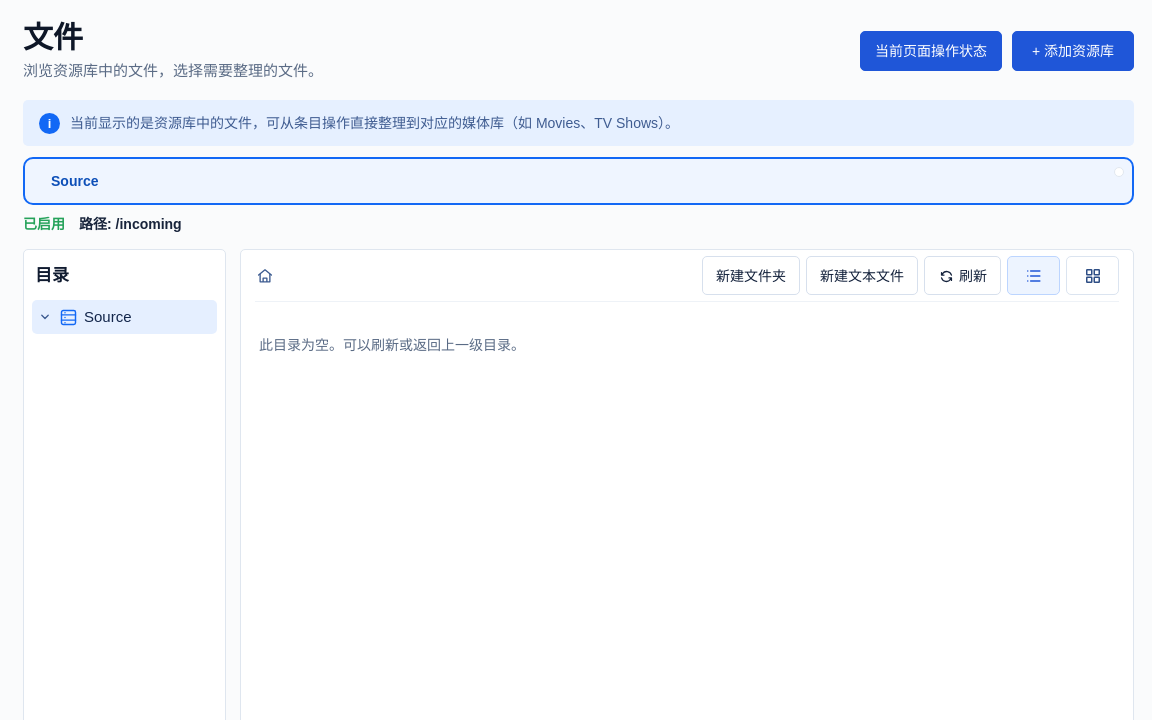
Scenario: current page operation status › lists multiple operations, reads one durable detail and offers only advertised controls
Click the button "当前页面操作状态". click: (931, 51)
box: [860,31,1002,71]
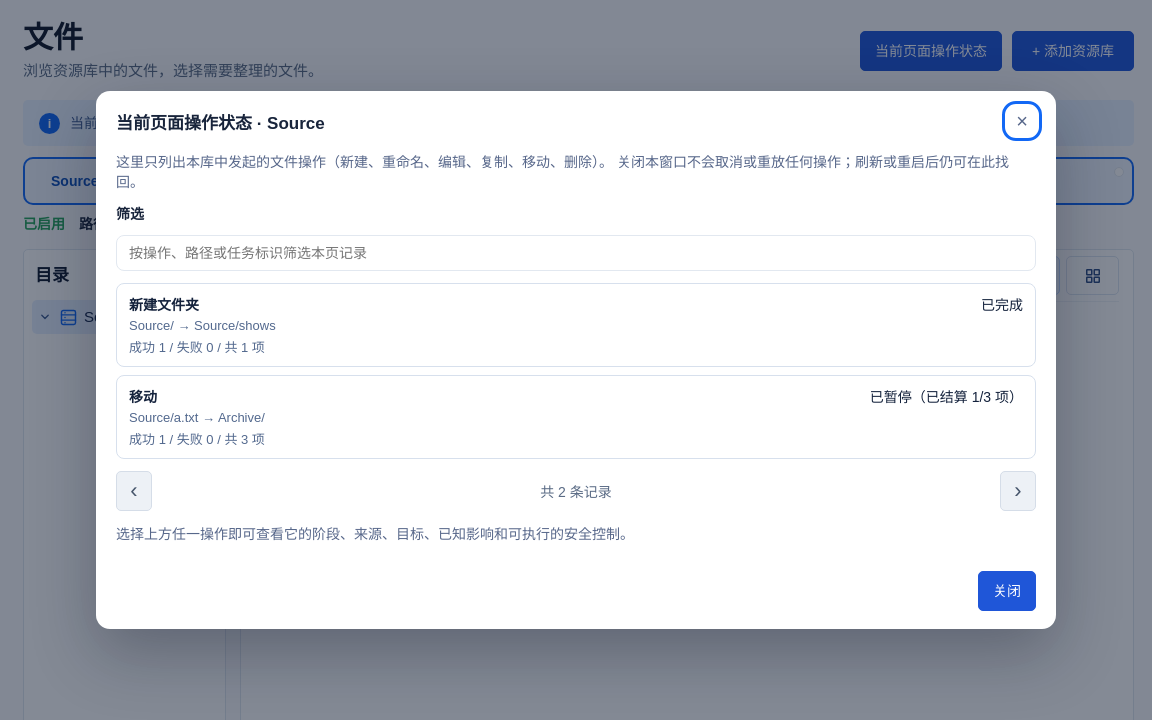
Result: the button with aria-label "操作 新建文件夹 task-1" is shown at [116,283,1036,367]
Result: the button with aria-label "操作 移动 task-2" is shown
Result: the text "共 2 条记录" is shown at [540,481,612,501]
Click the button with aria-label "操作 移动 task-2". click: (946, 397)
box: [116,375,1036,459]
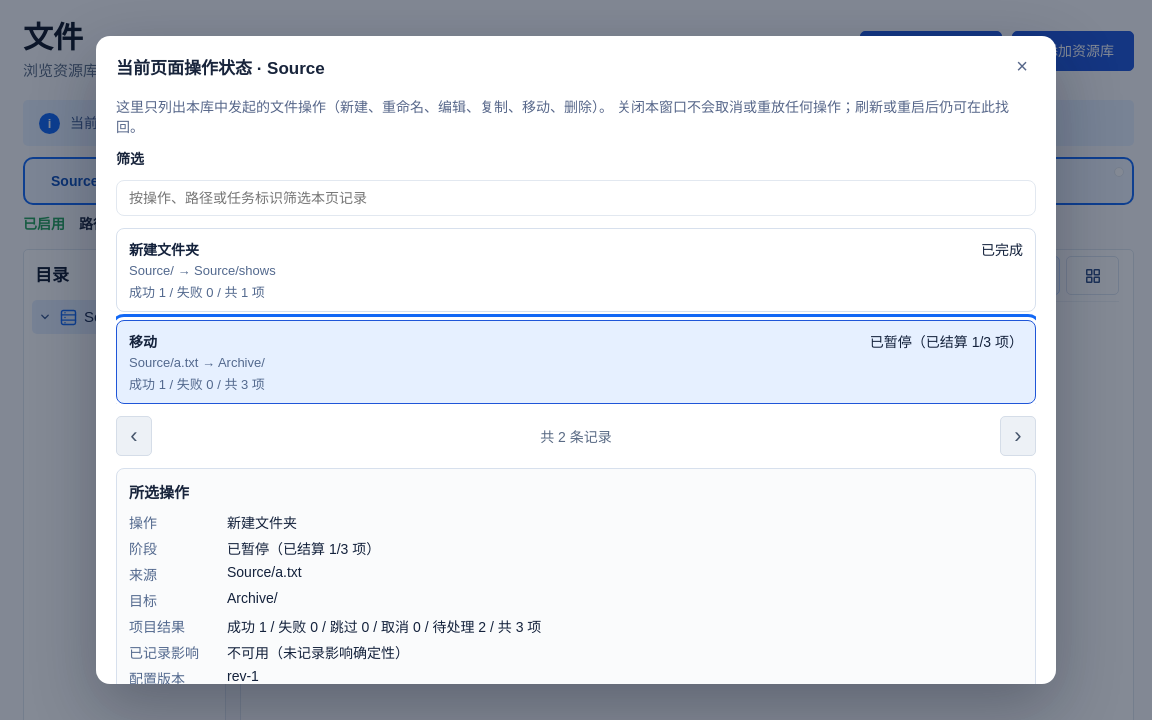
Result: the text "Archive/" is shown at [227,590,278,606]
Result: the text "Source/a.txt" is shown at [227,564,302,580]
Result: the text "成功 1 / 失败 0 / 跳过 0 / 取消 0 / 待处理 2 / 共 3 项" is shown at [227,619,541,635]
